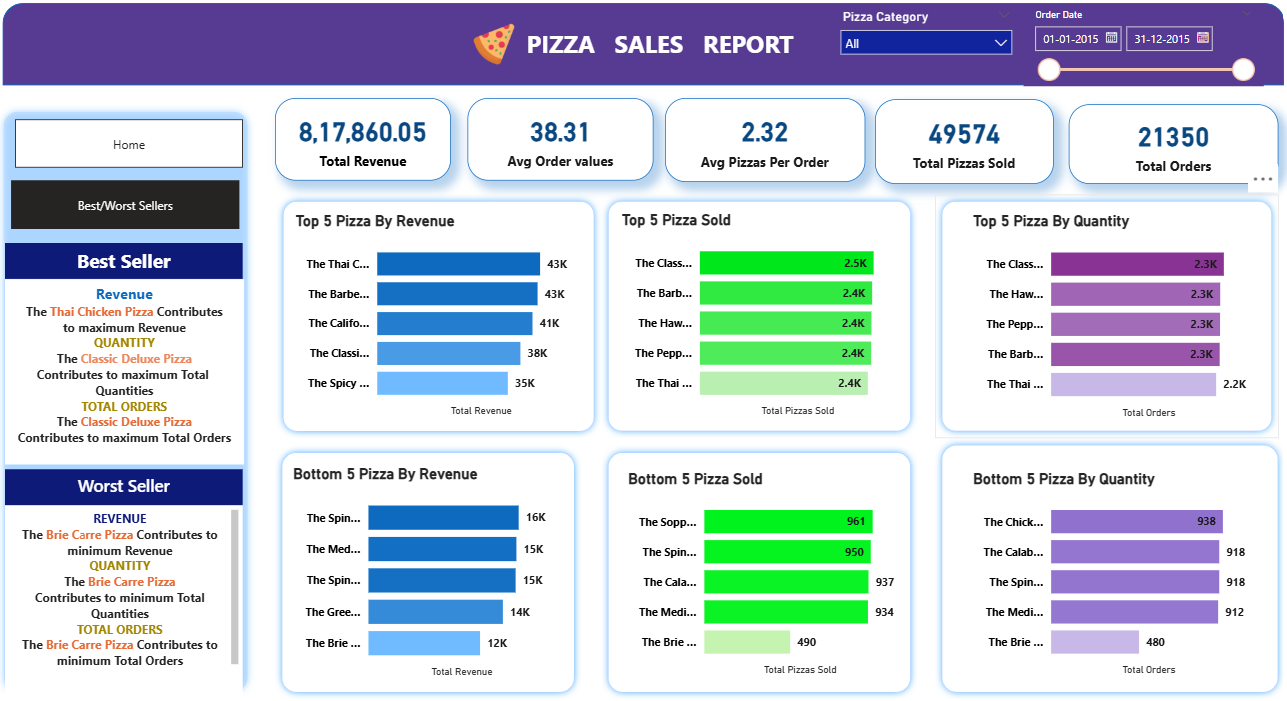

What the dashboard file says about the page in this screenshot:
{"tool":"powerbi","page":{"name":"Best/Worst Sellers","canvas":[1500,820],"ordinal":1},"visuals":[{"type":"card","fields":{"Values":["pizza_sales.Total Revenue"]},"box":[339.8,133.7,196.4,91.9],"z":0},{"type":"card","fields":{"Values":["pizza_sales.Avg Order values"]},"box":[554.3,133.7,207.5,91.9],"z":1000},{"type":"card","fields":{"Values":["pizza_sales.Avg Pizzas Per Order"]},"box":[774.3,133.7,222.8,93.3],"z":2000},{"type":"card","fields":{"Values":["pizza_sales.Total Pizzas Sold"]},"box":[1008.3,135.1,199.2,94.7],"z":3000},{"type":"card","fields":{"Values":["pizza_sales.Total Orders"]},"box":[1224.2,140.7,234,89.1],"z":4000},{"type":"shape","box":[36.2,27.9,1428.9,91.9],"z":5000},{"type":"textbox","box":[571,50.1,466.5,46],"z":6000},{"type":"image","box":[525,50.1,117,47.4],"z":7000},{"type":"shape","box":[340.9,241.2,361.8,271.8],"z":8000},{"type":"shape","box":[29.2,140.7,288.3,662.9],"z":18000},{"type":"textbox","box":[39,295.2,264.6,40.4],"z":19000},{"type":"textbox","box":[39,335.6,266,206.1],"z":20000},{"type":"textbox","box":[39,547.3,264.6,40.4],"z":21000},{"type":"textbox","box":[39,587.7,264.6,215.9],"z":22000},{"type":"slicer","fields":{"Values":["pizza_sales.pizza_category"]},"box":[959.5,29.2,211.7,75.2],"z":23000},{"type":"slicer","fields":{"Values":["pizza_sales.order_date"]},"box":[1174,29.2,266,90.5],"z":24000},{"type":"shape","box":[703.3,240.9,352.3,271.6],"z":24001},{"type":"shape","box":[1075.1,240.9,383,271.6],"z":24002},{"type":"shape","box":[339.8,520.9,341.2,282.7],"z":24003},{"type":"shape","box":[703.3,520.9,352.3,282.7],"z":24004},{"type":"shape","box":[1075.1,512.5,389.9,291.1],"z":24005},{"type":"barChart","title":"Top 5 Pizza By Revenue","fields":{"Category":["pizza_sales.pizza_name"],"Y":["pizza_sales.Total Revenue"]},"box":[358.6,260.5,332.9,233.2],"z":24006},{"type":"barChart","title":"Bottom 5 Pizza By Revenue","fields":{"Category":["pizza_sales.pizza_name"],"Y":["pizza_sales.Total Revenue"]},"box":[355.4,541.9,302.3,242.8],"z":24007},{"type":"barChart","title":"Top 5 Pizza Sold","fields":{"Category":["pizza_sales.pizza_name"],"Y":["pizza_sales.Total Pizzas Sold"]},"box":[722,258.9,315.2,234.8],"z":24008},{"type":"barChart","title":"Bottom 5 Pizza Sold","fields":{"Category":["pizza_sales.pizza_name"],"Y":["pizza_sales.Total Pizzas Sold"]},"box":[728.5,546.7,308.7,234.8],"z":24009},{"type":"barChart","title":"Top 5 Pizza By Quantity","fields":{"Category":["pizza_sales.pizza_name"],"Y":["pizza_sales.Total Orders"]},"box":[1112.8,260.5,315.2,234.8],"z":24010},{"type":"barChart","title":"Bottom 5 Pizza By Quantity","fields":{"Category":["pizza_sales.pizza_name"],"Y":["pizza_sales.Total Orders"]},"box":[1112.8,546.7,315.2,234.8],"z":24011},{"type":"pageNavigator","box":[46.6,225.1,254.1,54.7],"z":24012},{"type":"pageNavigator","box":[49.9,157.6,254.1,54.7],"z":24013}]}

Visuals, with their boxes in screenshot pixels (x1, y1, x2, y2), scaled from the page's 1500x820 canvas onto the 1287x701 screenshot:
card - pizza_sales.Total Revenue: [left=292, top=114, right=460, bottom=193]
card - pizza_sales.Avg Order values: [left=476, top=114, right=654, bottom=193]
card - pizza_sales.Avg Pizzas Per Order: [left=664, top=114, right=856, bottom=194]
card - pizza_sales.Total Pizzas Sold: [left=865, top=115, right=1036, bottom=196]
card - pizza_sales.Total Orders: [left=1050, top=120, right=1251, bottom=196]
shape: [left=31, top=24, right=1257, bottom=102]
textbox: [left=490, top=43, right=890, bottom=82]
image: [left=450, top=43, right=551, bottom=83]
shape: [left=292, top=206, right=603, bottom=439]
shape: [left=25, top=120, right=272, bottom=687]
textbox: [left=33, top=252, right=260, bottom=287]
textbox: [left=33, top=287, right=262, bottom=463]
textbox: [left=33, top=468, right=260, bottom=502]
textbox: [left=33, top=502, right=260, bottom=687]
slicer - pizza_sales.pizza_category: [left=823, top=25, right=1005, bottom=89]
slicer - pizza_sales.order_date: [left=1007, top=25, right=1236, bottom=102]
shape: [left=603, top=206, right=906, bottom=438]
shape: [left=922, top=206, right=1251, bottom=438]
shape: [left=292, top=445, right=584, bottom=687]
shape: [left=603, top=445, right=906, bottom=687]
shape: [left=922, top=438, right=1257, bottom=687]
"Top 5 Pizza By Revenue" barChart: [left=308, top=223, right=593, bottom=422]
"Bottom 5 Pizza By Revenue" barChart: [left=305, top=463, right=564, bottom=671]
"Top 5 Pizza Sold" barChart: [left=619, top=221, right=890, bottom=422]
"Bottom 5 Pizza Sold" barChart: [left=625, top=467, right=890, bottom=668]
"Top 5 Pizza By Quantity" barChart: [left=955, top=223, right=1225, bottom=423]
"Bottom 5 Pizza By Quantity" barChart: [left=955, top=467, right=1225, bottom=668]
pageNavigator: [left=40, top=192, right=258, bottom=239]
pageNavigator: [left=43, top=135, right=261, bottom=181]
